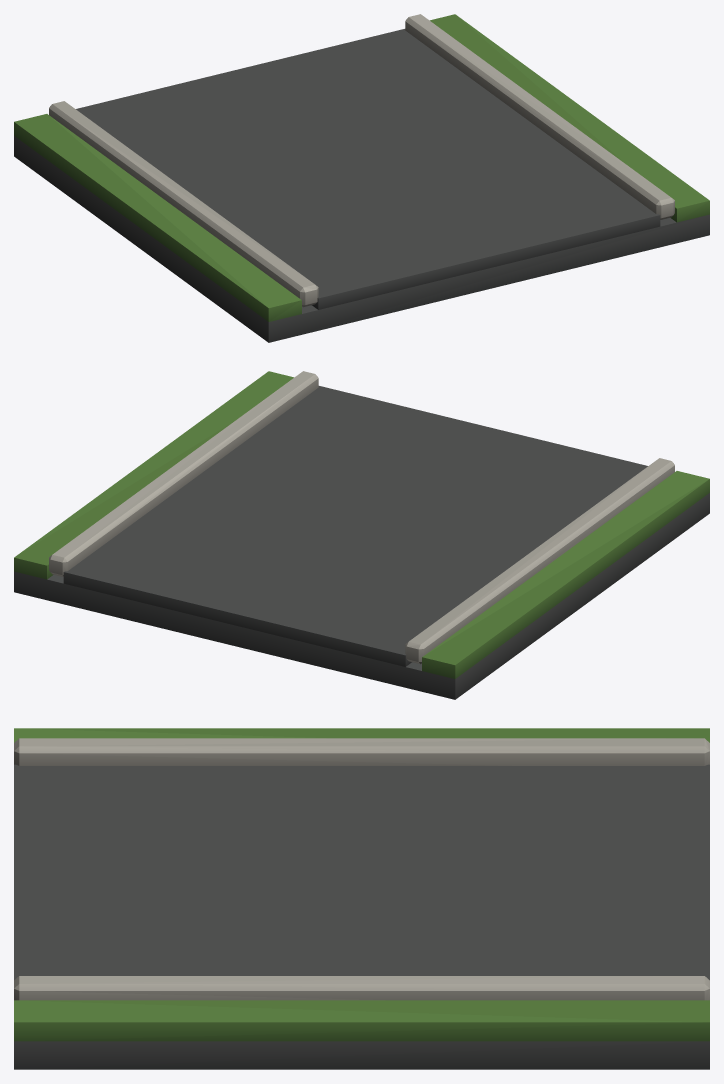
Rendered from street-straight.glb.
The picture shows the model from 3 angles, top to bottom: view 1: azimuth 30°, elevation 25°; view 2: azimuth 150°, elevation 25°; view 3: azimuth 270°, elevation 25°; orthographic projection. The views are drawn at different scales.
Parts seen in each view (by area): view 1: street_straight; view 2: street_straight; view 3: street_straight.
Part boxes in pixels (bbox=[...]): street_straight: bbox=[14, 14, 709, 342]; street_straight: bbox=[14, 371, 709, 699]; street_straight: bbox=[14, 728, 709, 1069].
Bounding box in the file's own units: 4 × 0.3899 × 4.
